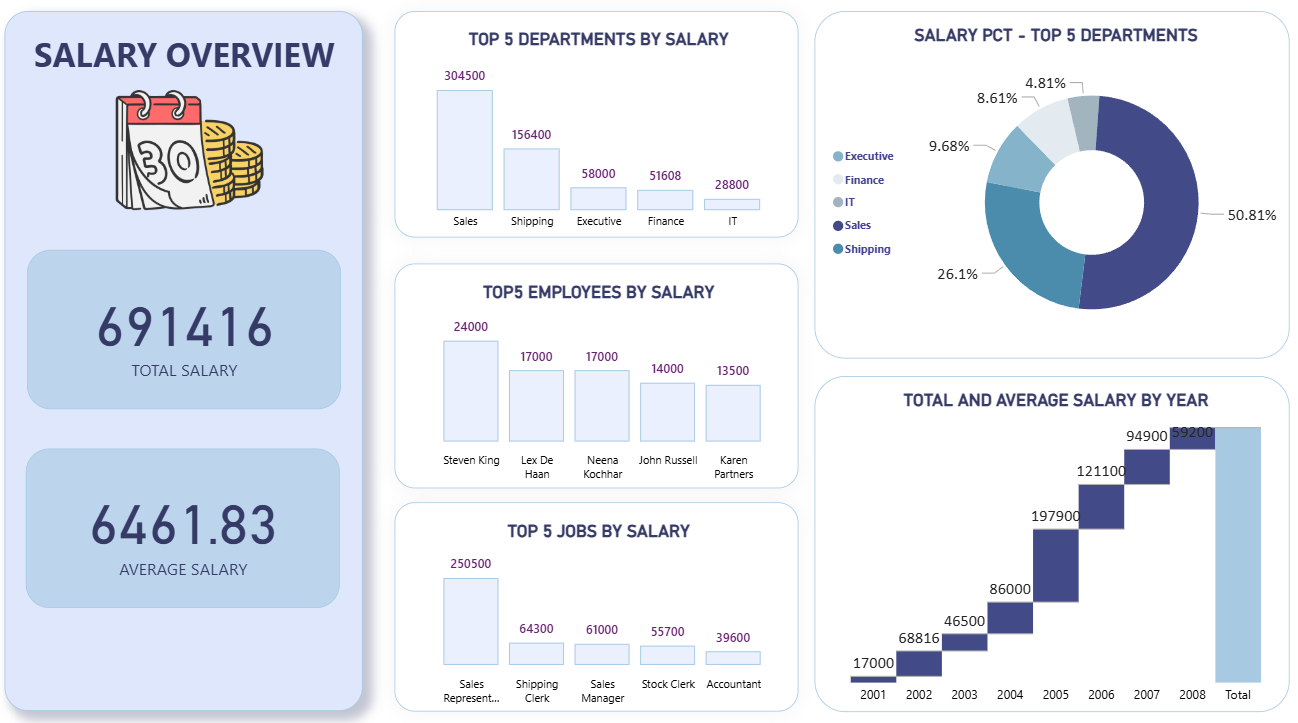

This screenshot's page, from the dashboard's own definition file:
{"tool":"powerbi","page":{"name":"sales overview","canvas":[1280,720],"ordinal":1},"visuals":[{"type":"textbox","box":[11.7,20,350,685],"z":0},{"type":"columnChart","title":"TOP 5 DEPARTMENTS BY SALARY","fields":{"Category":["departments.DEPARTMENT_NAME"],"Y":["Sum(employees.SALARY)"]},"box":[393.3,20,395,221.7],"z":1000},{"type":"columnChart","title":"TOP5  EMPLOYEES BY SALARY","fields":{"Y":["Sum(employees.SALARY)"],"Category":["employees.FULL_NAME"]},"box":[393.3,266.7,395,220],"z":2000},{"type":"waterfallChart","title":"TOTAL AND AVERAGE  SALARY BY YEAR","fields":{"Category":["employees.HIRE_DATE.Variation.Date Hierarchy.Year"],"Y":["Sum(employees.SALARY)"]},"box":[805,376.2,465,328.8],"z":3000},{"type":"columnChart","title":"TOP 5 JOBS BY SALARY","fields":{"Category":["jobs.JOB_TITLE"],"Y":["Sum(employees.SALARY)"]},"box":[393.8,500,395,205],"z":4000},{"type":"card","fields":{"Values":["Sum(employees.SALARY)"]},"box":[34.3,252.9,307.1,155.7],"z":5000},{"type":"card","fields":{"Values":["Avg(employees.SALARY)"]},"box":[32.9,447.1,307.1,155.7],"z":6000},{"type":"image","box":[94.3,71.4,198.6,170],"z":7000},{"type":"donutChart","title":" SALARY PCT  - TOP 5 DEPARTMENTS","fields":{"Y":["Sum(employees.SALARY)"],"Series":["departments.DEPARTMENT_NAME"]},"box":[805,20,465,340],"z":8000}]}

Visuals, with their boxes in screenshot pixels (x1, y1, x2, y2), scaled from the page's 1280x720 canvas onto the 1298x723 screenshot:
textbox: {"x1": 12, "y1": 20, "x2": 367, "y2": 708}
"TOP 5 DEPARTMENTS BY SALARY" columnChart: {"x1": 399, "y1": 20, "x2": 799, "y2": 243}
"TOP5  EMPLOYEES BY SALARY" columnChart: {"x1": 399, "y1": 268, "x2": 799, "y2": 489}
"TOTAL AND AVERAGE  SALARY BY YEAR" waterfallChart: {"x1": 816, "y1": 378, "x2": 1288, "y2": 708}
"TOP 5 JOBS BY SALARY" columnChart: {"x1": 399, "y1": 502, "x2": 800, "y2": 708}
card - Sum(employees.SALARY): {"x1": 35, "y1": 254, "x2": 346, "y2": 410}
card - Avg(employees.SALARY): {"x1": 33, "y1": 449, "x2": 345, "y2": 605}
image: {"x1": 96, "y1": 72, "x2": 297, "y2": 242}
" SALARY PCT  - TOP 5 DEPARTMENTS" donutChart: {"x1": 816, "y1": 20, "x2": 1288, "y2": 362}
